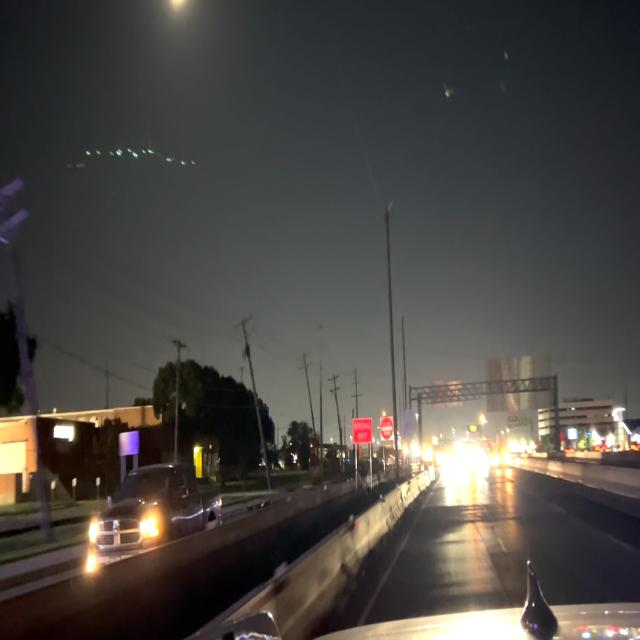back-of-sign: (489, 356, 552, 410)
